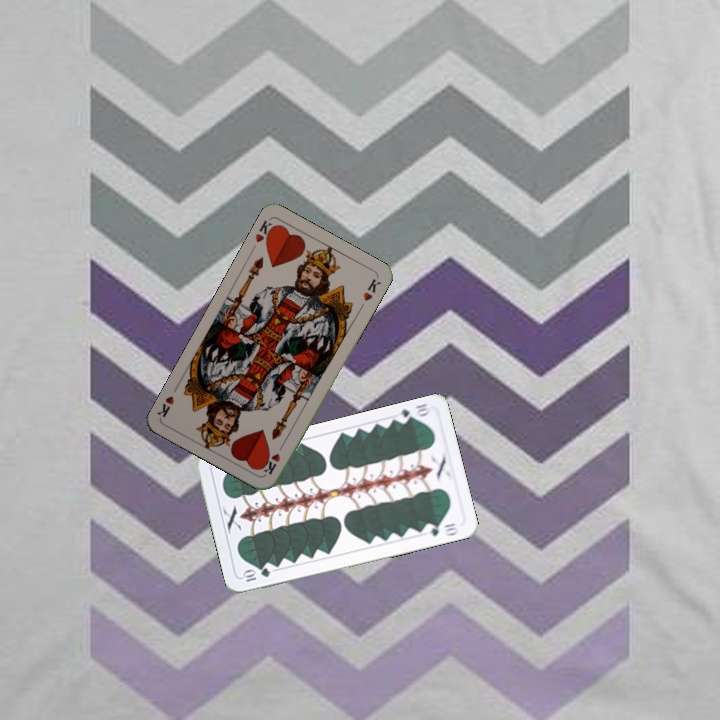G10: (392, 399, 433, 426), (239, 564, 273, 584)
HK: (260, 439, 287, 477), (251, 216, 279, 248)
